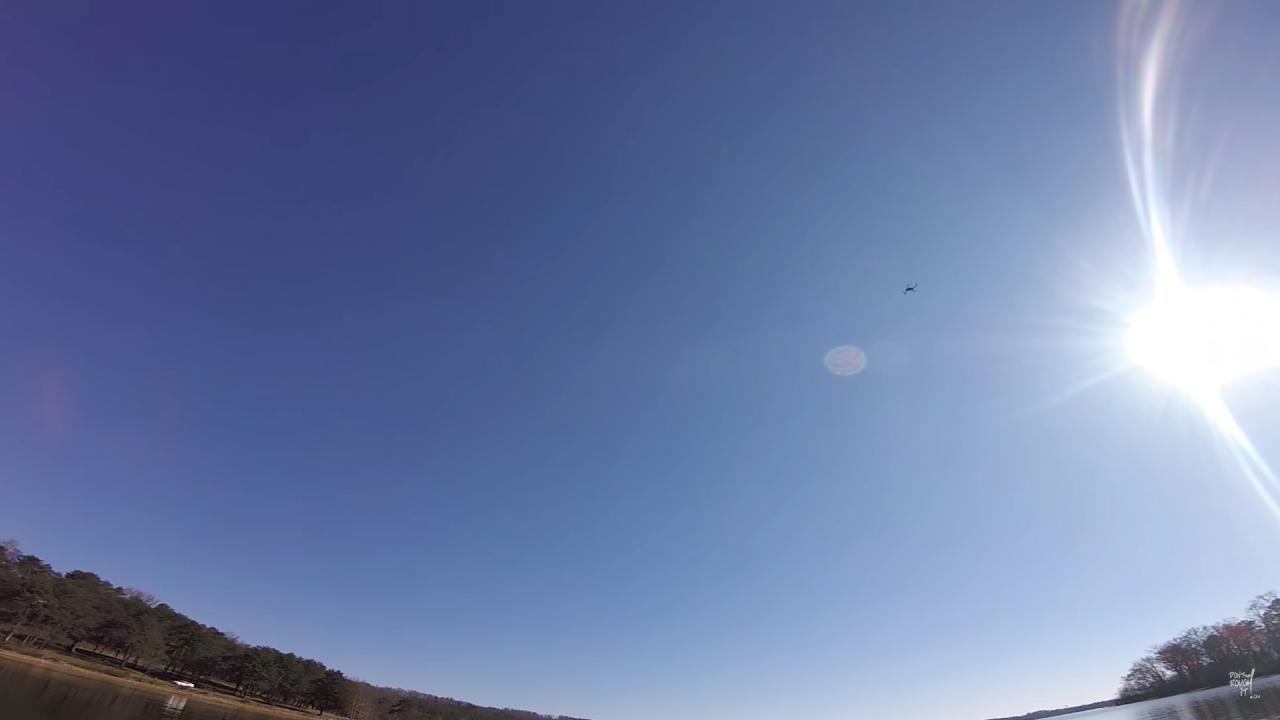Drone: (892, 276, 929, 303)
